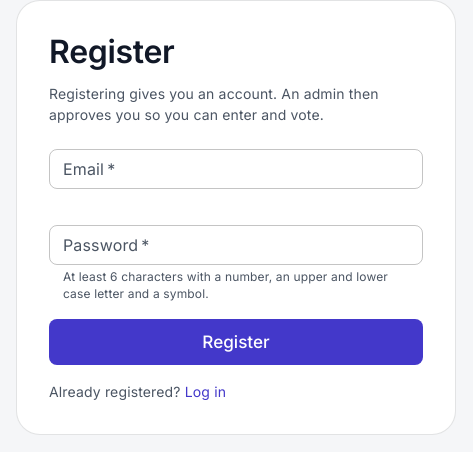
Test case: RegisterPage › tells a new member that approval is pending after registering
The width and height of the screenshot is (473, 452).
Type "new@example.com" into the field labelled "Email *" at (236, 169), box [49,149,423,189]
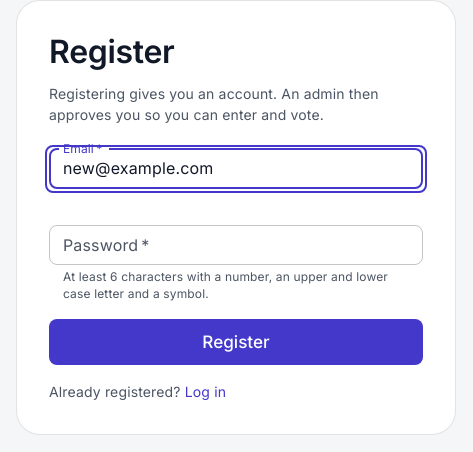
Type "Passw0rd!" into the password field labelled "Password *" at (236, 245), box [49,225,423,265]
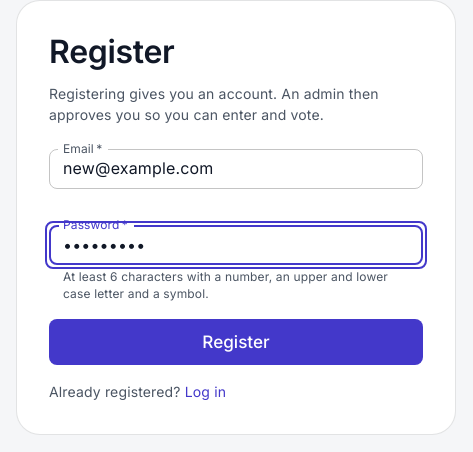
Click the button "Register" at (236, 342), box [49,319,423,365]
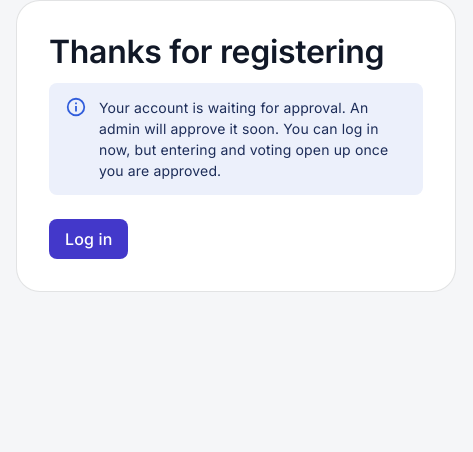
Check: the text "waiting for approval" is shown, box [99,99,388,179]
